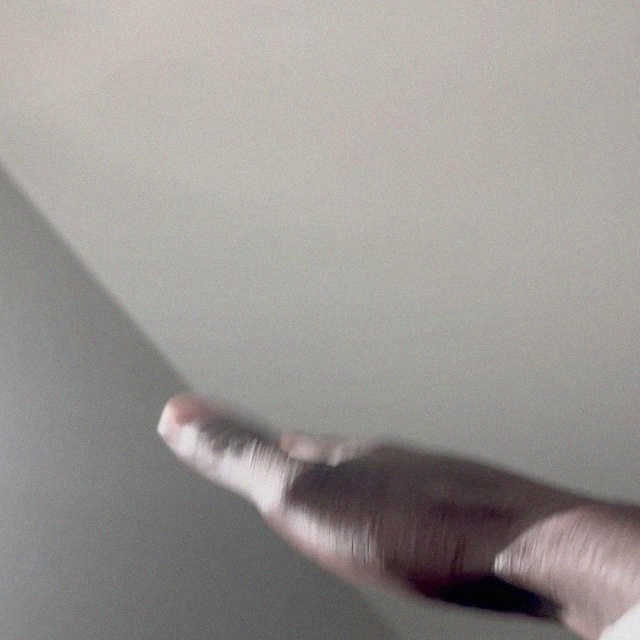Paper: (151, 392, 598, 621)
